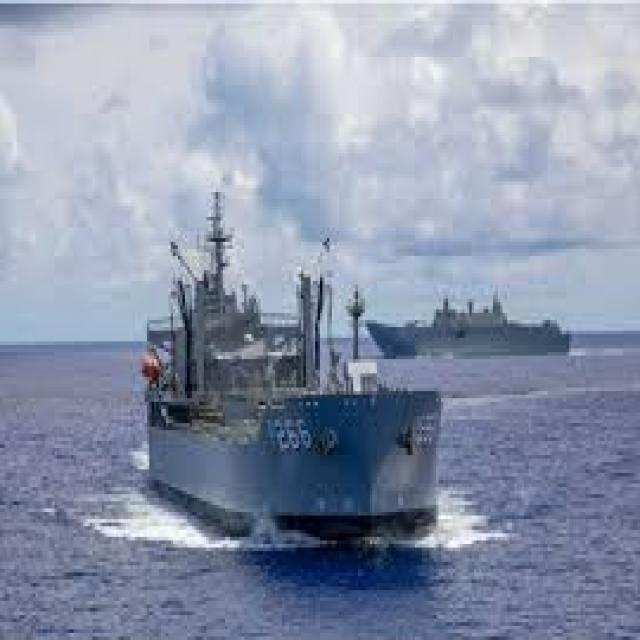navalvessels: (125, 208, 456, 549), (346, 214, 577, 362)
